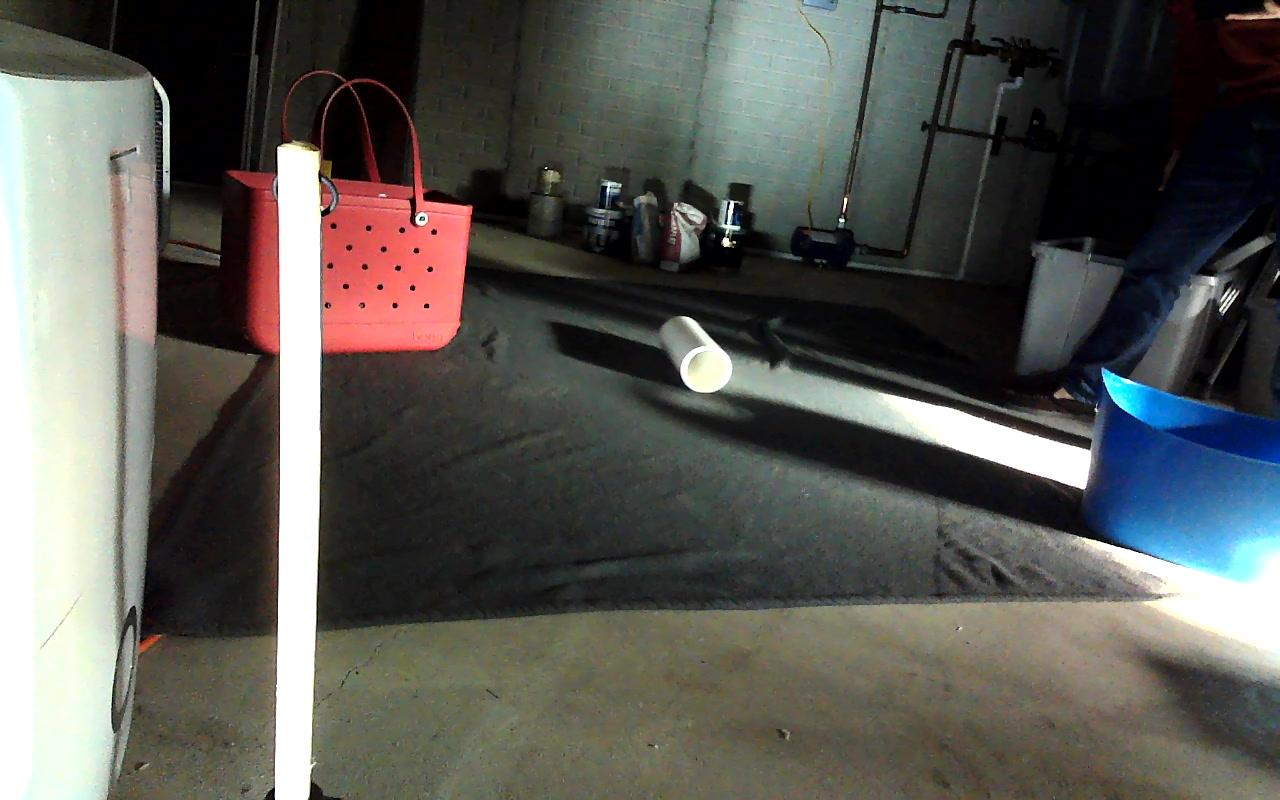coral: (660, 316, 731, 391)
